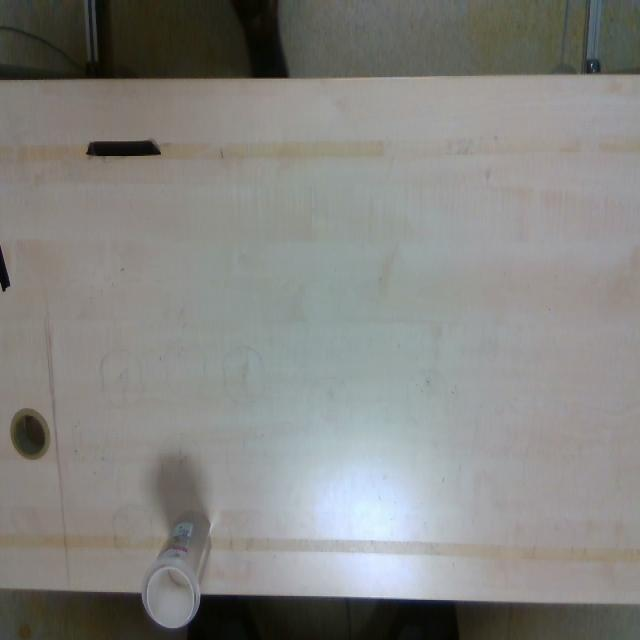cups: (140, 510, 214, 630)
